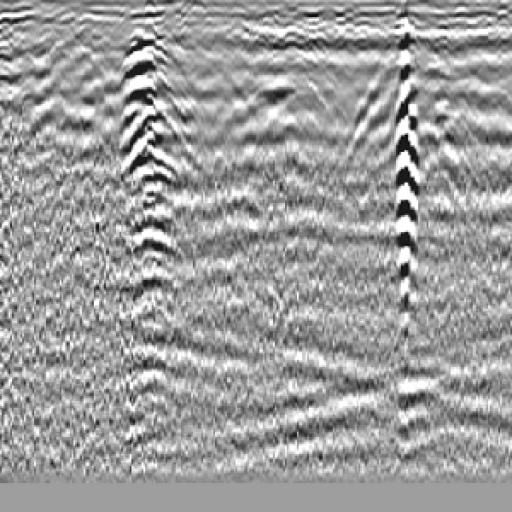metalic: (117, 30, 185, 224)
